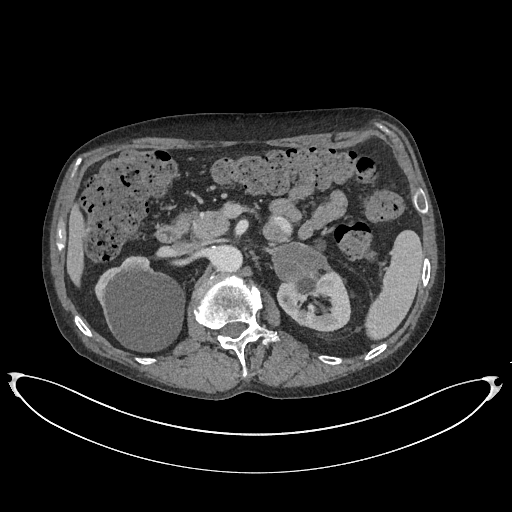Lesion: (265, 244, 335, 283)
